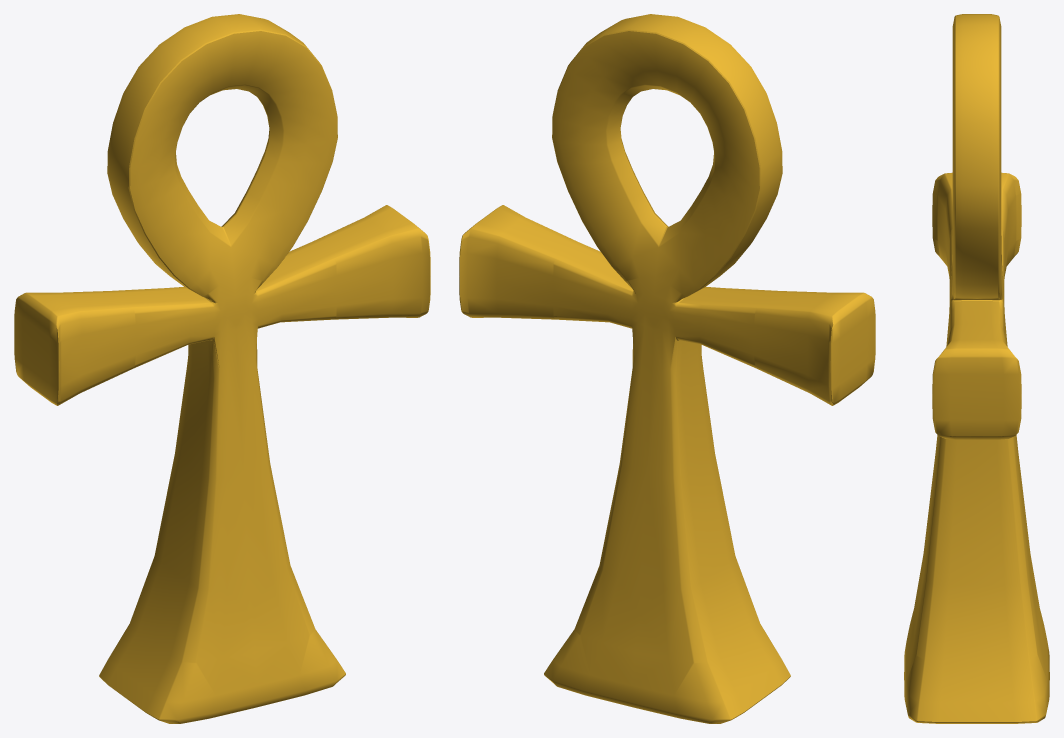
The model's file is Ankh.fbx.
3 renders of one model, left to right at view 1: azimuth 30°, elevation 25°; view 2: azimuth 150°, elevation 25°; view 3: azimuth 270°, elevation 25°, orthographic.
Visible parts, largest first — view 1: Ankh; view 2: Ankh; view 3: Ankh.
Part boxes in pixels (box(x1,y1,x2,y2)): Ankh: box(14, 14, 430, 723); Ankh: box(459, 14, 875, 723); Ankh: box(904, 14, 1049, 723).
Size of the model in its own units: 2.04 by 3.44 by 0.6896.
